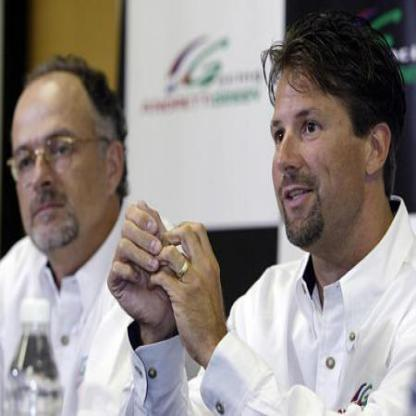face: (257, 26, 365, 251), (6, 61, 110, 256)
